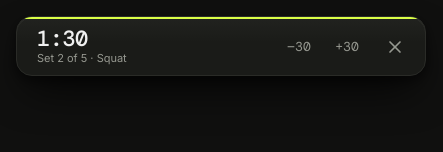
Test case: RestTimerBar › moves the countdown with the ±30 buttons
Step 1. Click the button named "30 seconds more rest" → point(347, 47), box [325,25,369,69]
Wait 250 ms
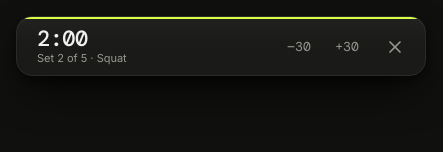
expect the text "2:00" is shown: met, box [37,24,88,53]
Step 2. Click the button named "30 seconds less rest" → point(299, 47), box [277,25,321,69]
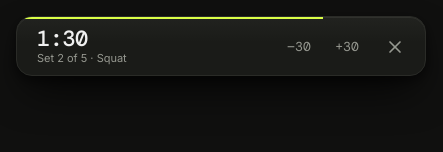
Step 3. Click the button named "30 seconds less rest" → point(299, 47), box [277,25,321,69]
Wait 250 ms
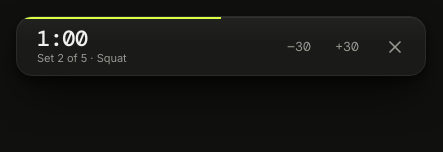
expect the text "1:00" is shown: met, box [37,24,88,53]
